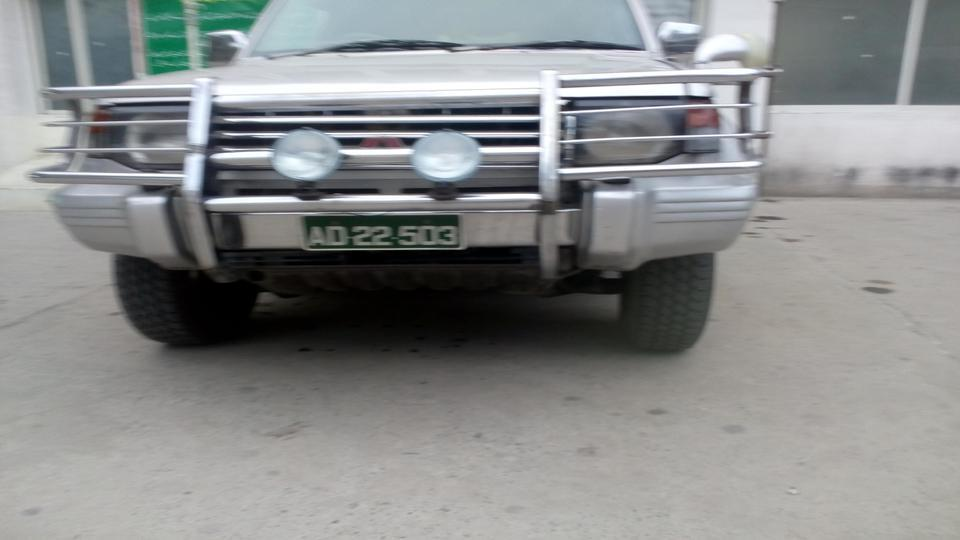NumberPlate: (301, 216, 464, 255)
